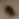cockroach: (6, 6, 16, 16)
